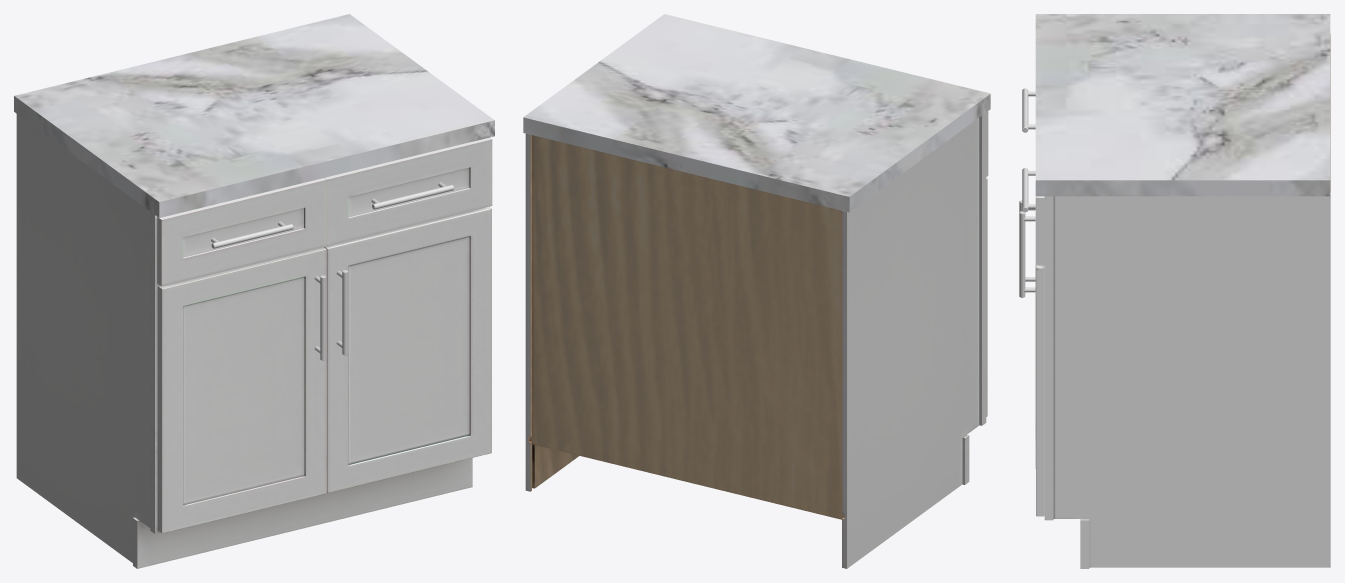
The model's file is White_B33.glb.
3 views of the same model, side by side, from view 1: azimuth 30°, elevation 25°; view 2: azimuth 150°, elevation 25°; view 3: azimuth 270°, elevation 25° (orthographic). The views are drawn at different scales.
Parts seen in each view (by area): view 1: Door, Cube.013, countertop, Handle.003, Handle.004; view 2: Cube.013, countertop, Door; view 3: Cube.013, countertop, Door, Handle.002.
Part boxes in pixels (bbox=[...]): Door: bbox=[157, 137, 492, 533]; Cube.013: bbox=[16, 114, 490, 568]; countertop: bbox=[14, 14, 494, 217]; Handle.003: bbox=[371, 182, 454, 209]; Handle.004: bbox=[211, 221, 293, 248]; Cube.013: bbox=[525, 113, 986, 568]; countertop: bbox=[523, 14, 990, 212]; Door: bbox=[986, 111, 988, 416]; Cube.013: bbox=[1044, 31, 1330, 568]; countertop: bbox=[1035, 14, 1330, 196]; Door: bbox=[1035, 196, 1044, 516]; Handle.002: bbox=[1019, 211, 1035, 297].
Size of the model in its own units: 0.8382 by 0.9144 by 0.6633.
Materials: 4 (3 with a texture image).
